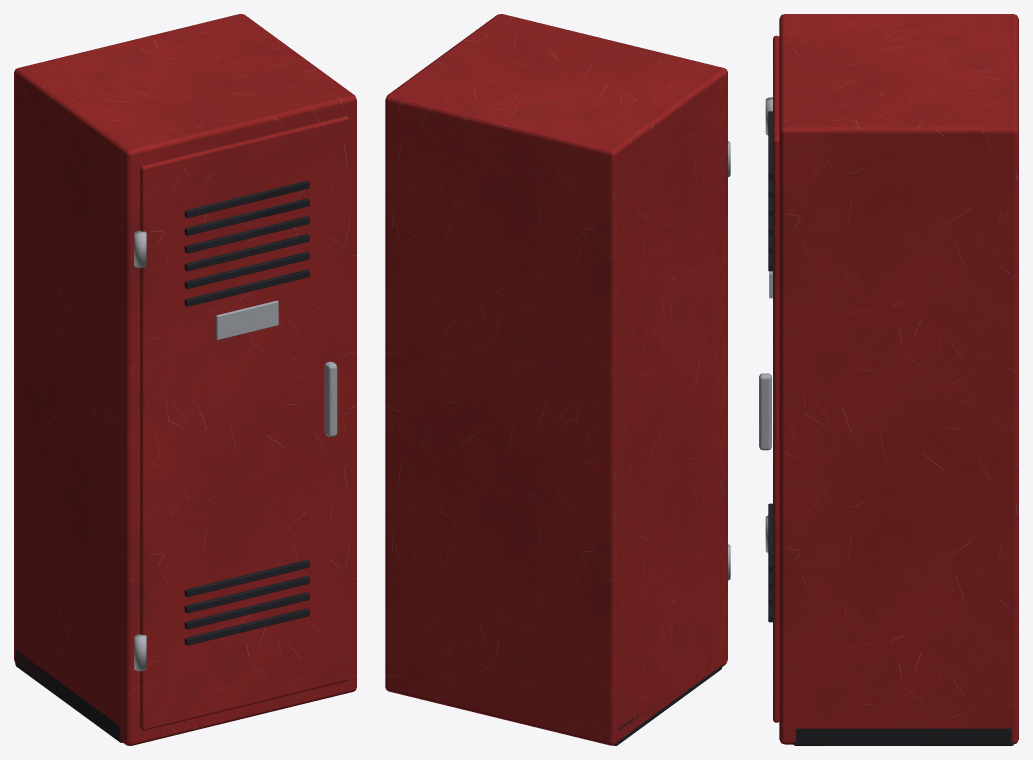
The model's file is Locker.glb.
3 renders of one model, left to right at view 1: azimuth 30°, elevation 25°; view 2: azimuth 150°, elevation 25°; view 3: azimuth 270°, elevation 25°, orthographic. The views are drawn at different scales.
Parts seen in each view (by area): view 1: Locker_MetalRed, Locker_PlasticDark, Locker_Steel; view 2: Locker_MetalRed, Locker_PlasticDark; view 3: Locker_MetalRed, Locker_PlasticDark, Locker_Steel.
Boxes of the visible parts, bbox=[...] form: Locker_MetalRed: bbox=[14, 14, 356, 745]; Locker_PlasticDark: bbox=[15, 180, 309, 742]; Locker_Steel: bbox=[134, 230, 337, 671]; Locker_MetalRed: bbox=[385, 14, 727, 745]; Locker_PlasticDark: bbox=[613, 665, 722, 745]; Locker_MetalRed: bbox=[773, 14, 1018, 744]; Locker_PlasticDark: bbox=[768, 111, 1013, 745]; Locker_Steel: bbox=[759, 97, 772, 552].
Bounding box in the file's own units: 3 × 7.41 × 2.82.
Materials: 3 (3 with a texture image).
